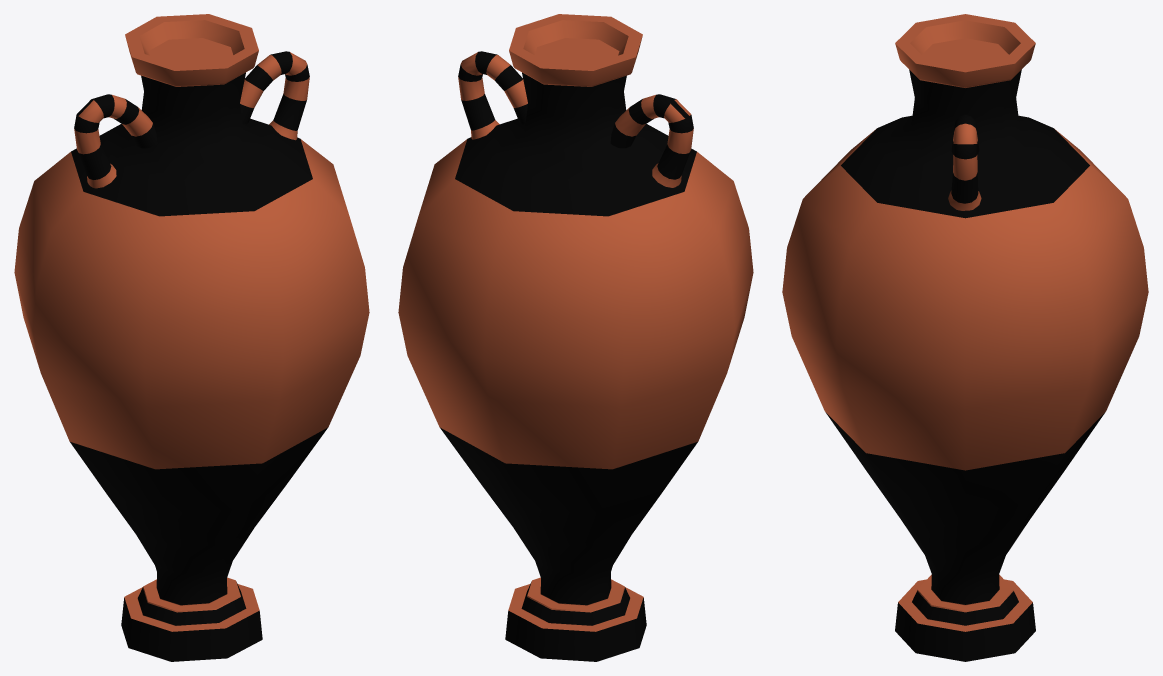
Rendered from anfora.fbx.
The picture shows the model from 3 angles, left to right: view 1: azimuth 30°, elevation 25°; view 2: azimuth 150°, elevation 25°; view 3: azimuth 270°, elevation 25°; orthographic projection.
Parts seen in each view (by area): view 1: Anfora; view 2: Anfora; view 3: Anfora.
Part boxes in pixels (bbox=[...]): Anfora: bbox=[14, 14, 369, 661]; Anfora: bbox=[398, 14, 753, 661]; Anfora: bbox=[782, 14, 1148, 661].
Bounding box in the file's own units: 69.41 × 123 × 69.41.
